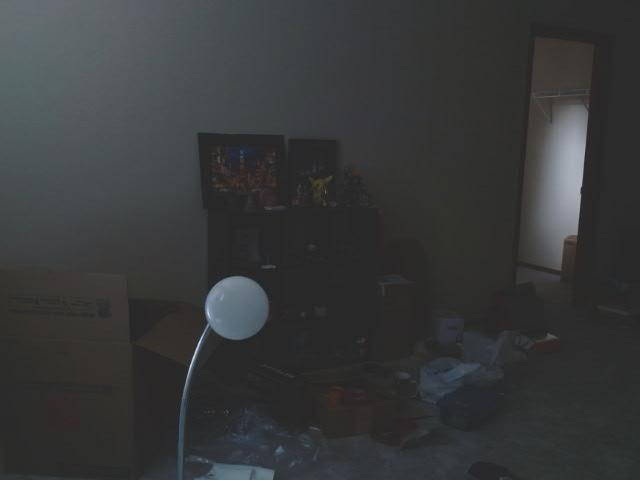Fan: (203, 275, 267, 338)
